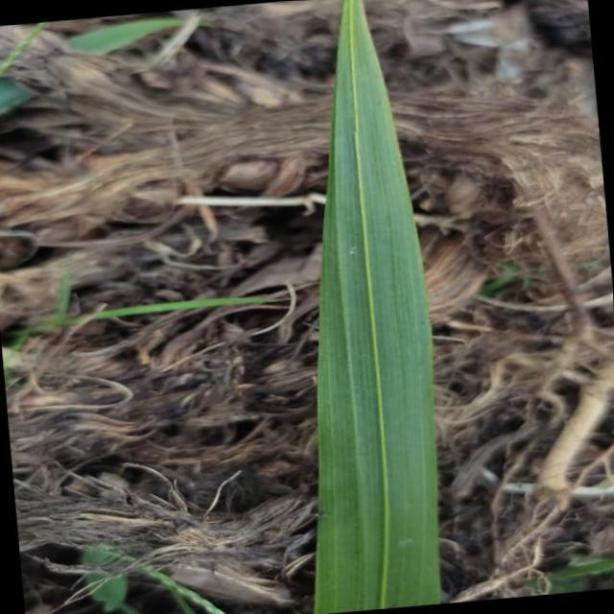Healthy: (318, 0, 443, 614)
